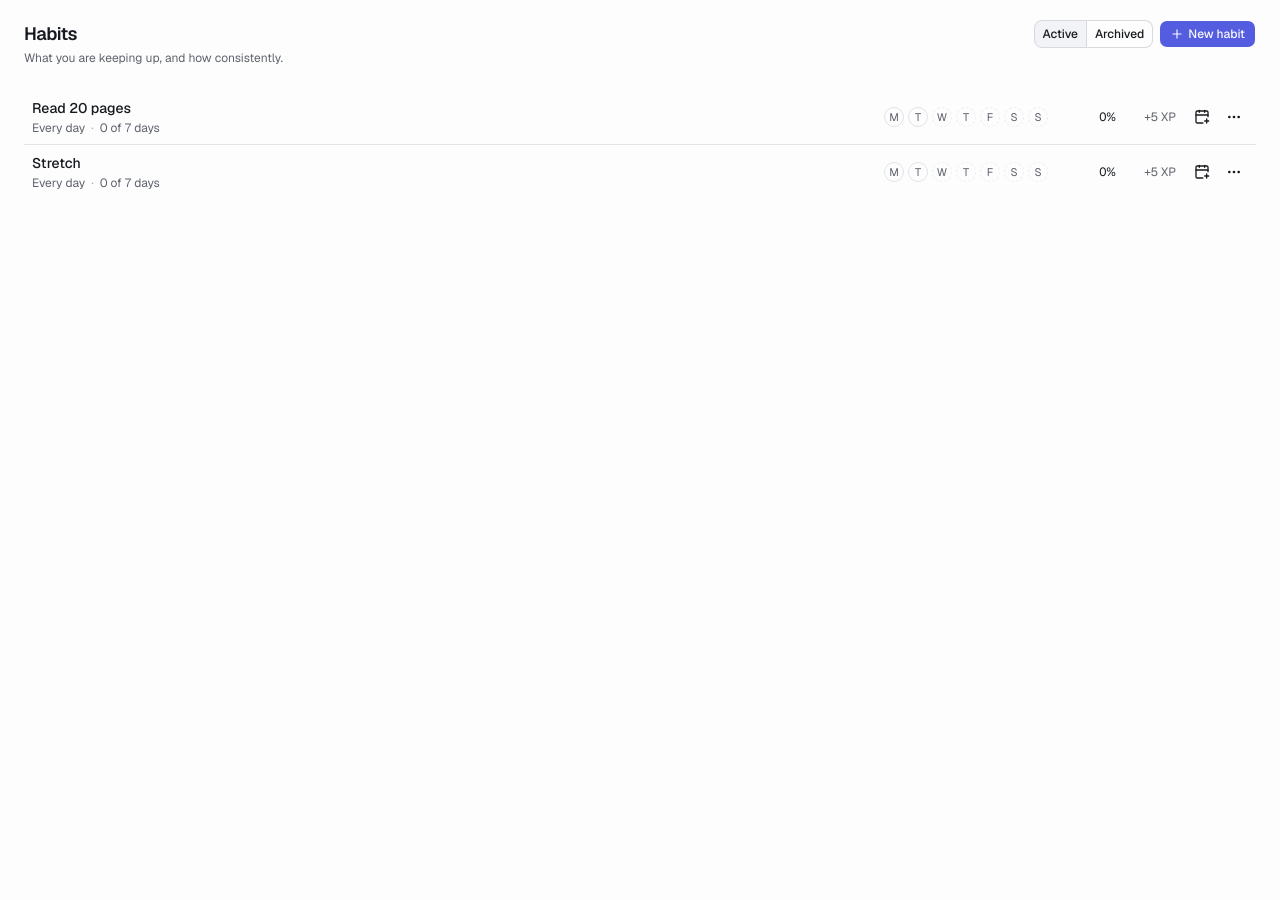
deleting a habit › moves focus to the neighbouring row once the deleted one is gone
Step 1. Press Enter in the 1st button named "Options for Read 20 pages", box [1220,103,1248,131]
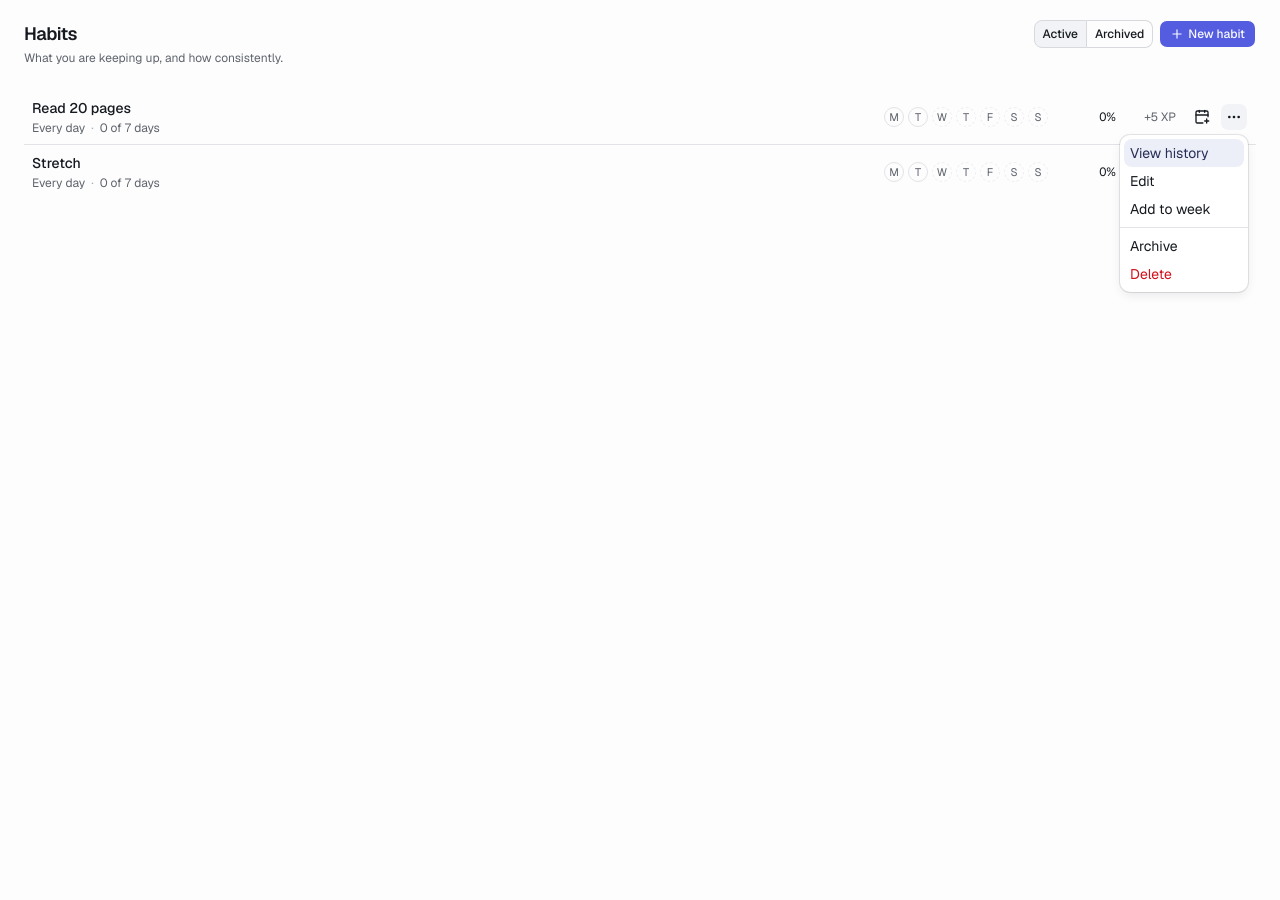
Step 2. Click the menu item "Delete" → coordinates (1151, 274), box [1130,265,1172,283]
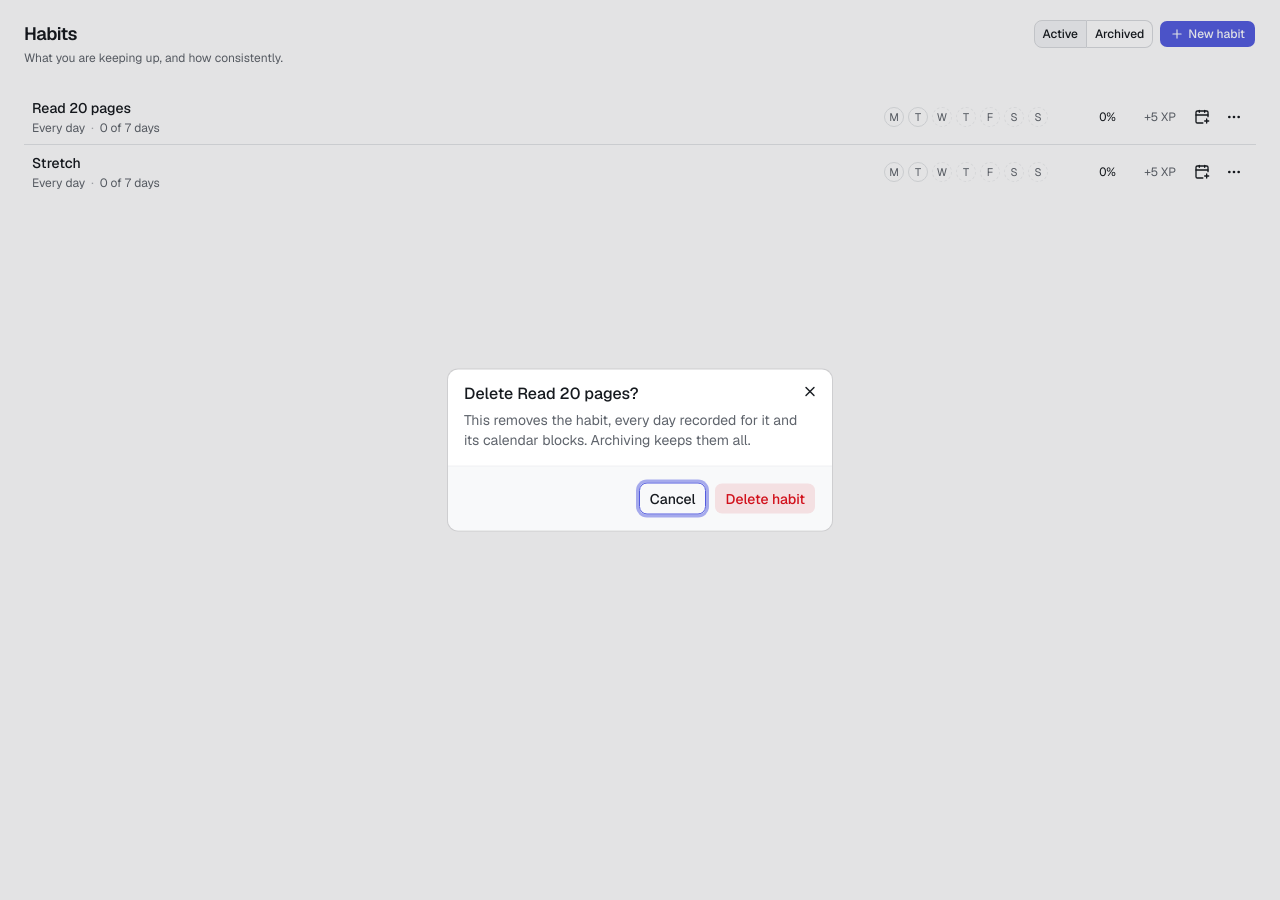
Step 3. Click the button "Delete habit" → coordinates (765, 498), box [714,482,816,514]
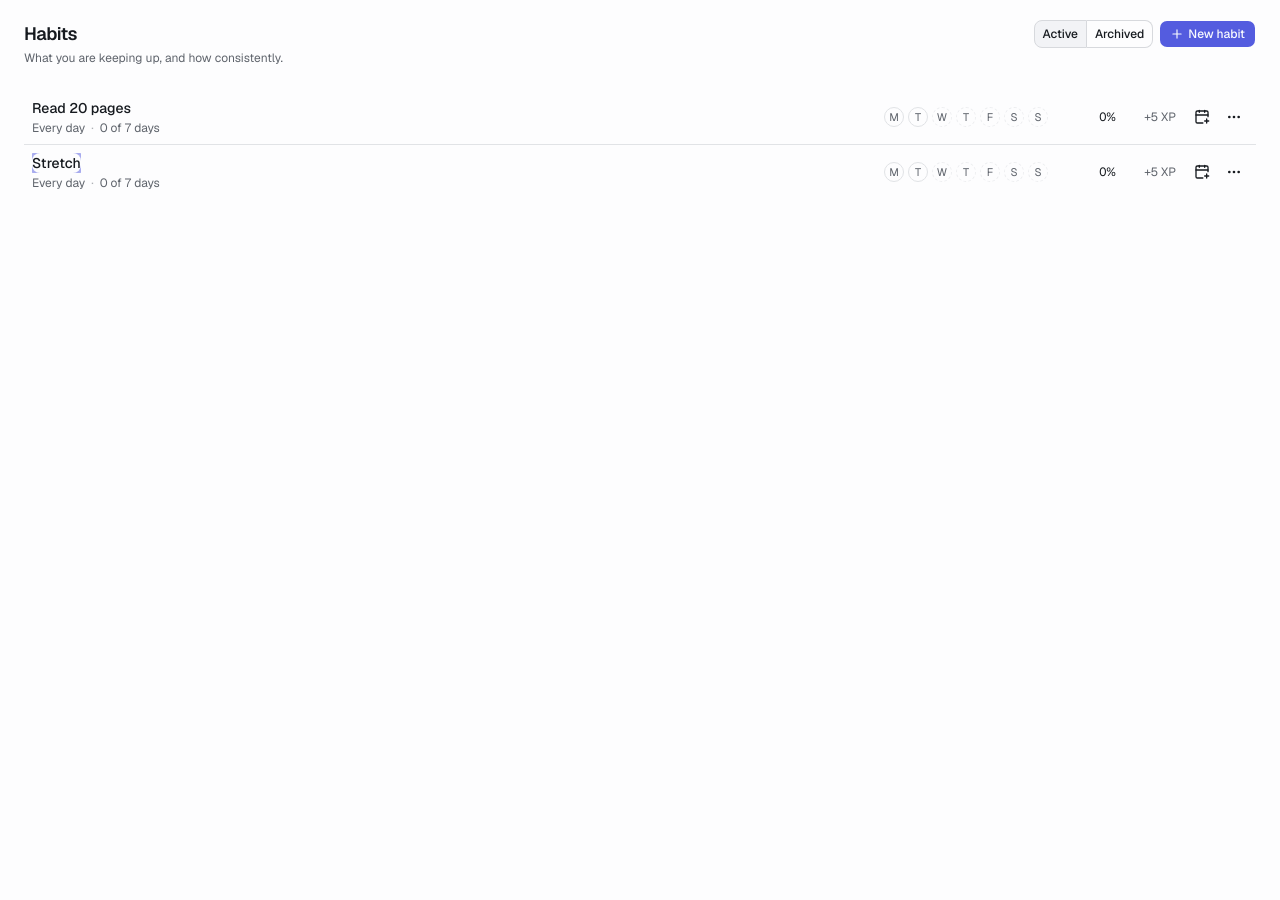
Now the dialog is gone
